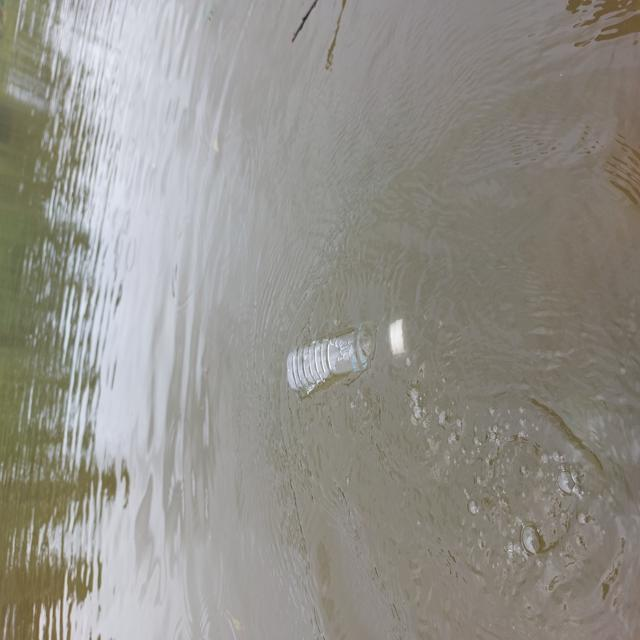waterbottle: (288, 316, 408, 400)
